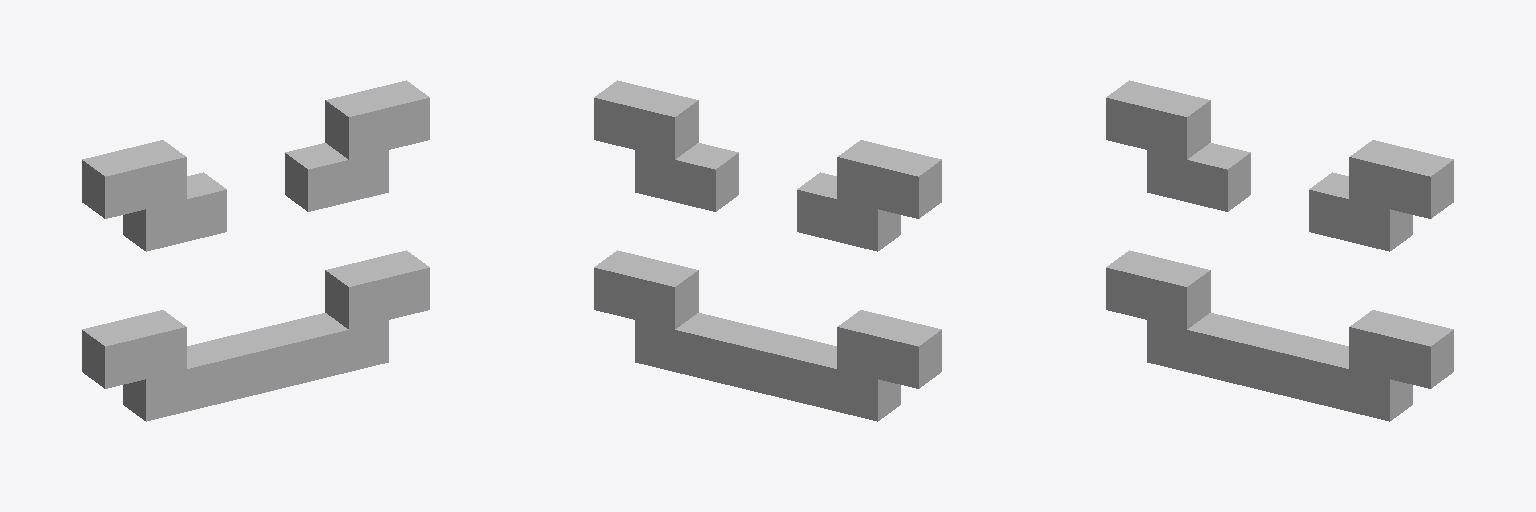
File: Jack o lantern (Hole).obj
3 renders of one model, left to right at view 1: azimuth 30°, elevation 25°; view 2: azimuth 150°, elevation 25°; view 3: azimuth 330°, elevation 25°, orthographic.
Visible parts, largest first — view 1: object 1; view 2: object 1; view 3: object 1.
Boxes of the visible parts, box(x1,y1,x2,y2) form: object 1: box(82, 80, 429, 421); object 1: box(594, 80, 941, 421); object 1: box(1106, 80, 1453, 421).
Size of the model in its own units: 0.8 by 0.6 by 0.1.